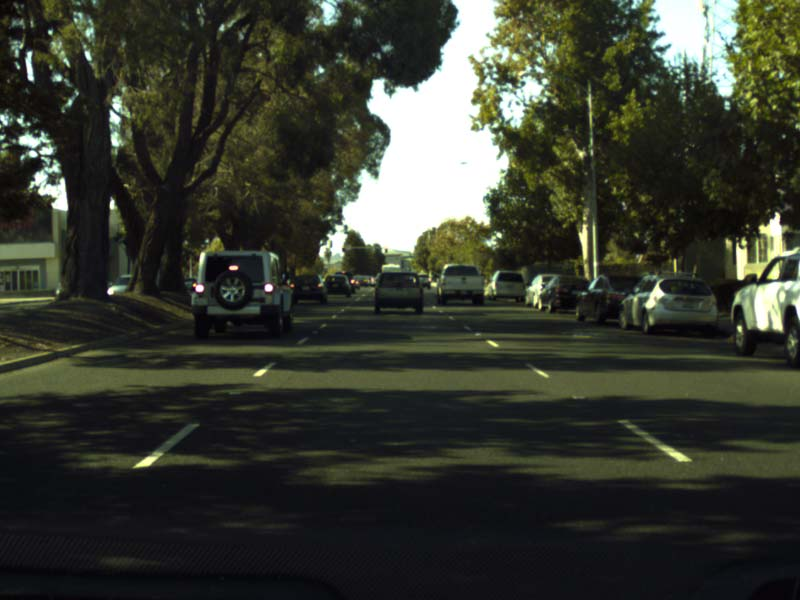Red: (340, 245, 345, 251), (384, 247, 387, 252)
